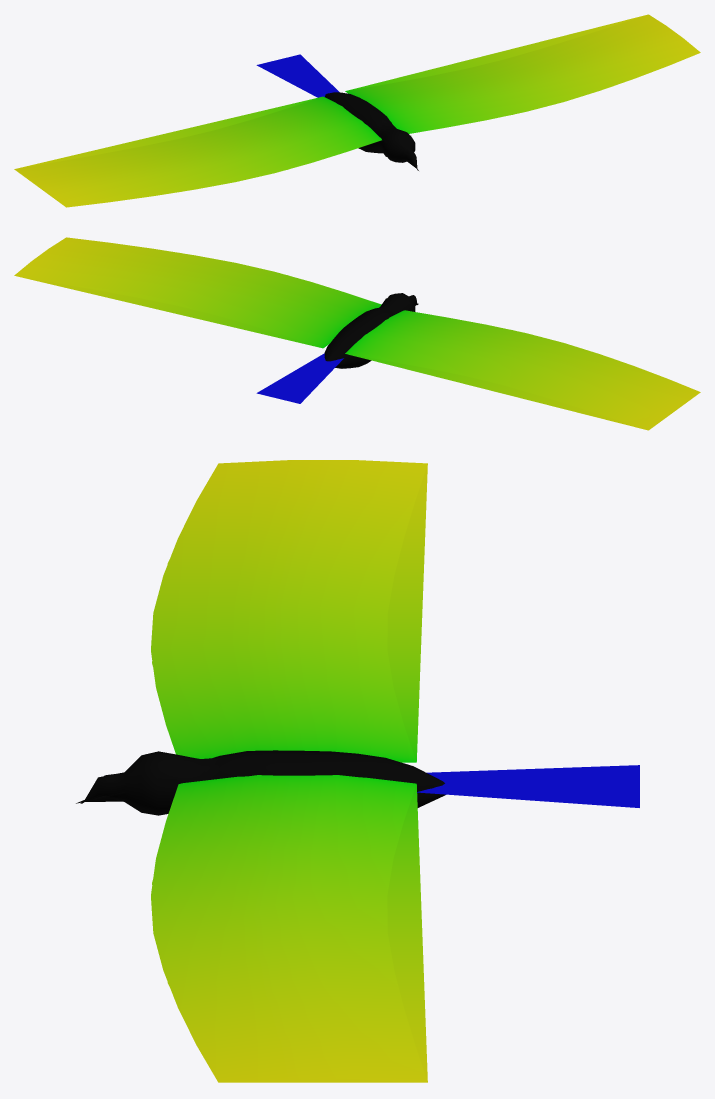
The model's file is kite.glb.
3 views of the same model, one above another, from view 1: azimuth 30°, elevation 25°; view 2: azimuth 150°, elevation 25°; view 3: azimuth 270°, elevation 25° (orthographic). The views are drawn at different scales.
Parts seen in each view (by area): view 1: fly0, fly2, fly1; view 2: fly0, fly2, fly1; view 3: fly0, fly2, fly1.
Boxes of the visible parts, bbox=[...] form: fly0: bbox=[14, 14, 700, 207]; fly2: bbox=[17, 15, 645, 204]; fly1: bbox=[17, 19, 632, 203]; fly0: bbox=[14, 237, 700, 430]; fly2: bbox=[16, 276, 691, 429]; fly1: bbox=[35, 275, 697, 428]; fly0: bbox=[82, 460, 445, 1082]; fly2: bbox=[76, 464, 639, 1082]; fly1: bbox=[80, 470, 444, 1082].
Size of the model in its own units: 1.5 by 0.089 by 0.5784.
